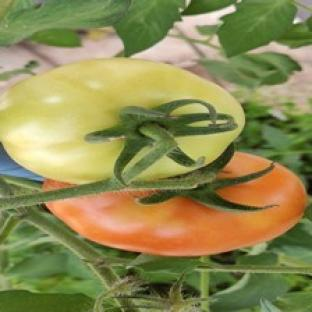Tomato: (0, 59, 245, 183), (46, 165, 306, 256)
